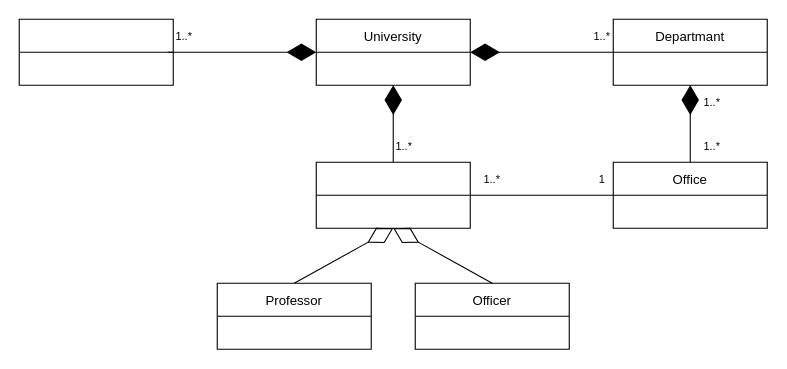
This 787x369 diagram has some shape labels left out. The centre of each missing label's shape, as x and y in pixels:
Class: [95,51]
Employee: [392,194]
